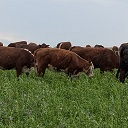vaca: (34, 43, 96, 80), (0, 44, 36, 76), (69, 49, 123, 70)
